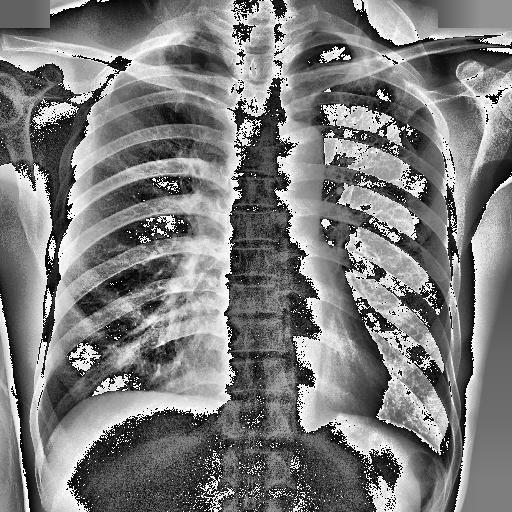0- Aortic enlargement: (260, 118, 326, 184)
11- Pleural thickening: (125, 44, 229, 64), (289, 43, 348, 69), (150, 28, 196, 46), (374, 52, 396, 74), (330, 408, 348, 420)
13- Pulmonary fibrosis: (314, 63, 404, 168), (327, 56, 416, 158), (158, 46, 198, 82), (156, 44, 208, 70)
9- Other lesion: (293, 404, 340, 434)
